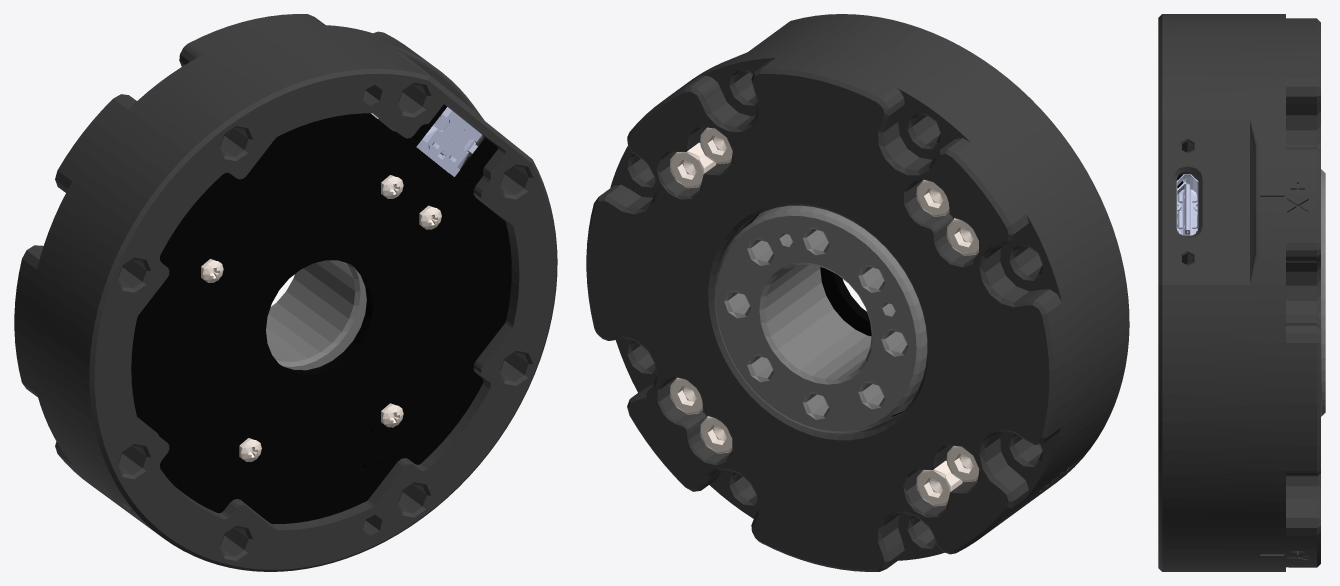
The model's file is PhisX.dae.
3 views of the same model, side by side, from view 1: azimuth 30°, elevation 25°; view 2: azimuth 150°, elevation 25°; view 3: azimuth 270°, elevation 25° (orthographic). The views are drawn at different scales.
Visible parts, largest first — view 1: node0, node27, node14, node28; view 2: node0, node14, node27, node8, node3, node1, node2, node5, node6, node4, node7; view 3: node0, node28, node14.
Part boxes in pixels (x1,y1,x2,y2): node0: [14, 14, 557, 571]; node27: [131, 104, 511, 523]; node14: [266, 260, 366, 370]; node28: [416, 107, 482, 176]; node0: [586, 14, 1129, 571]; node14: [714, 205, 927, 433]; node27: [750, 214, 903, 416]; node8: [916, 460, 962, 506]; node3: [670, 142, 716, 188]; node1: [700, 416, 732, 453]; node2: [670, 377, 703, 414]; node5: [946, 218, 978, 255]; node6: [916, 180, 949, 216]; node4: [700, 127, 732, 163]; node7: [946, 445, 979, 482]; node0: [1158, 14, 1320, 571]; node28: [1176, 174, 1198, 235]; node14: [1197, 169, 1325, 416].
Bounding box in the file's own units: 0.07 × 0.021 × 0.07.
